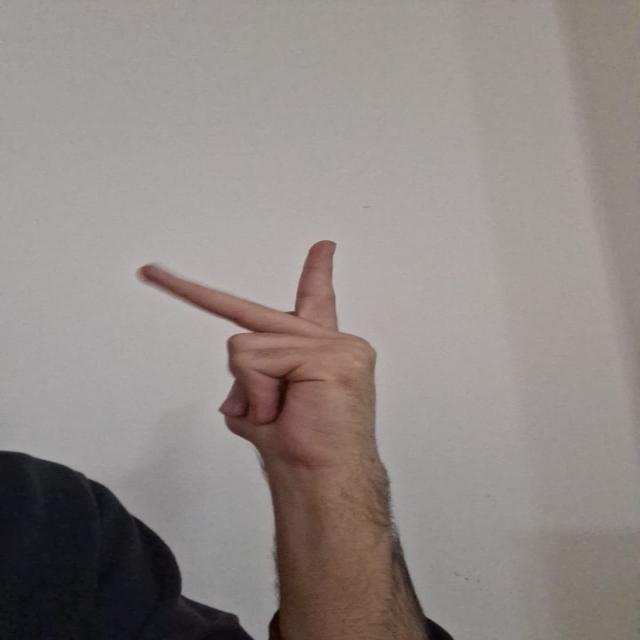K: (132, 235, 392, 467)
